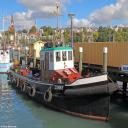tugboat: (7, 3, 120, 125)
